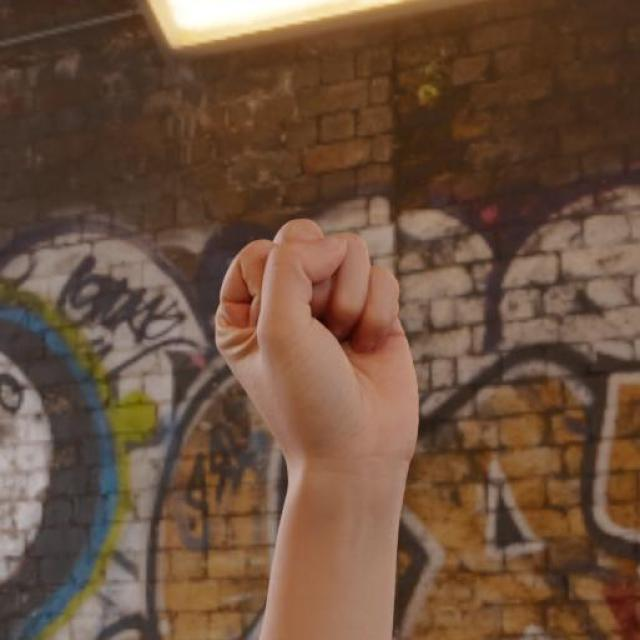S: (213, 212, 425, 482)
